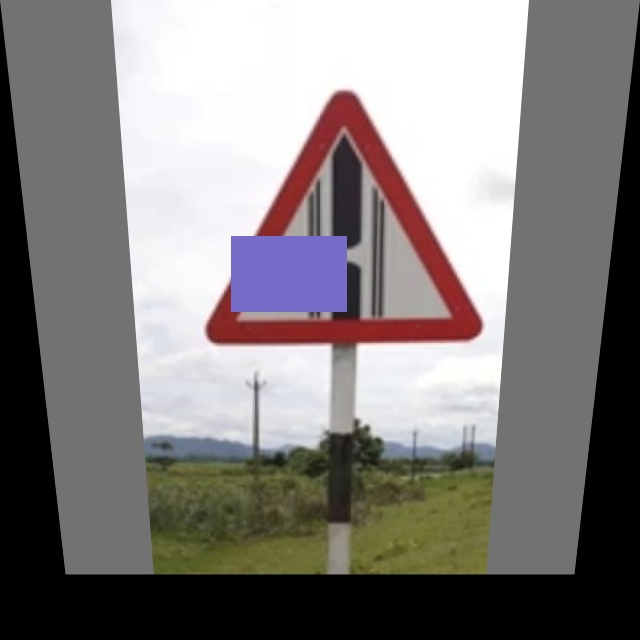Gap_in_Median: (195, 71, 497, 343)
